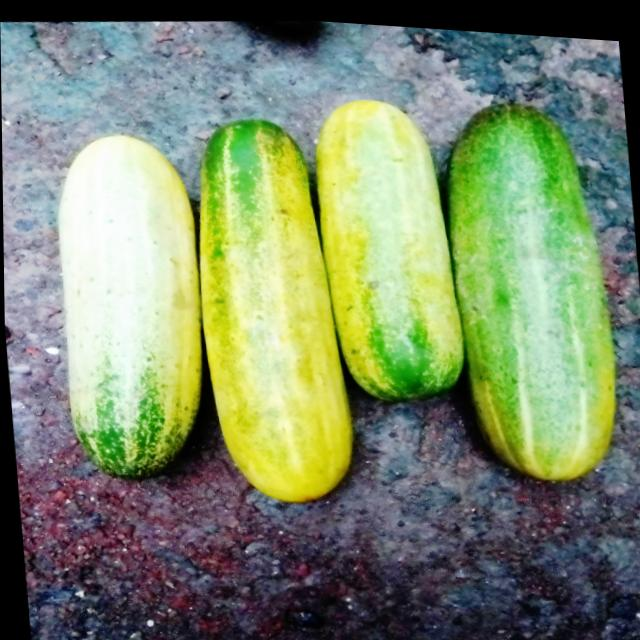Fresh-Cucumber: (434, 81, 626, 488), (185, 97, 357, 512), (46, 122, 214, 486), (307, 82, 465, 400)
